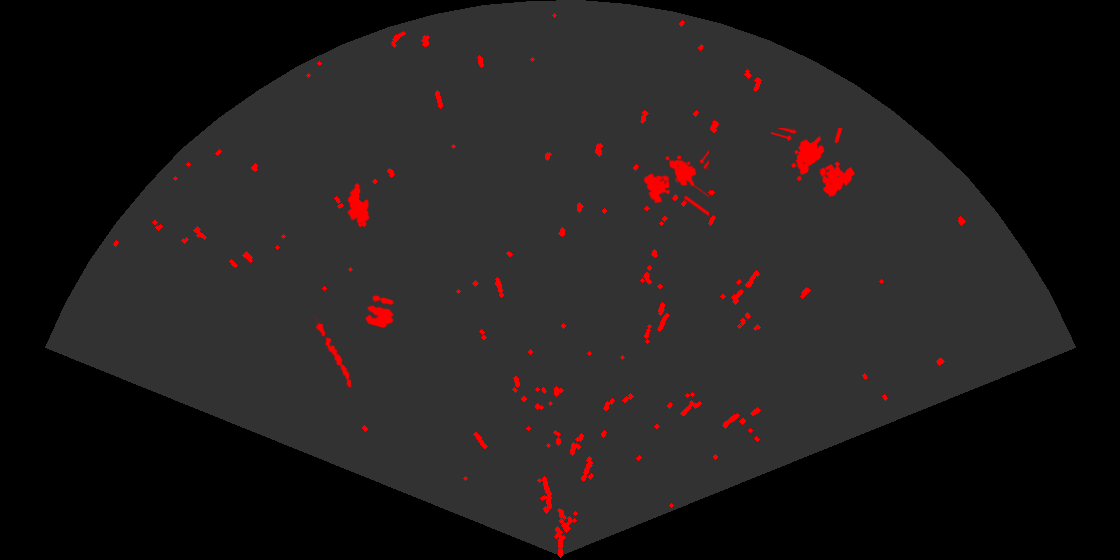AUV: (346, 181, 371, 229)
ball: (363, 293, 396, 330)
cage: (771, 128, 857, 198), (642, 148, 709, 218)
chain: (311, 315, 353, 390)
